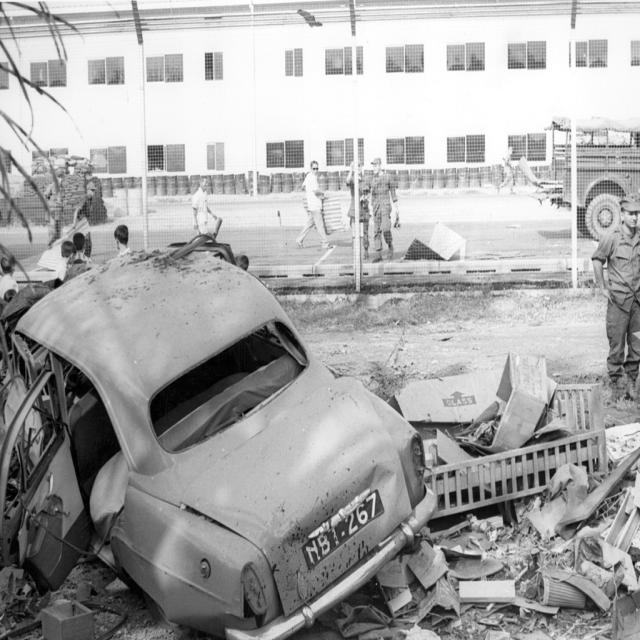car: (15, 212, 430, 633)
